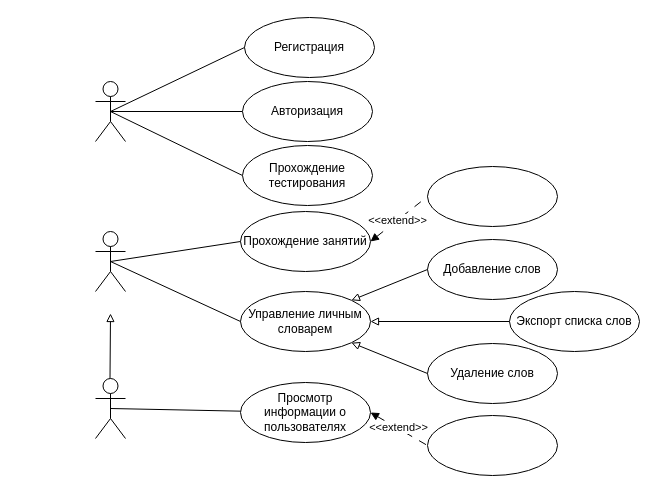
This 657x493 diagram has some shape labels left out. The centre of each missing label's shape, as x and y in pixels:
Авторизованный пользователь: point (110, 261)
Администратор: point (110, 408)
Изменение информации о пользователе: point (492, 445)
Консультация с LLM: point (492, 196)
Неавторизованный пользователь: point (110, 111)
